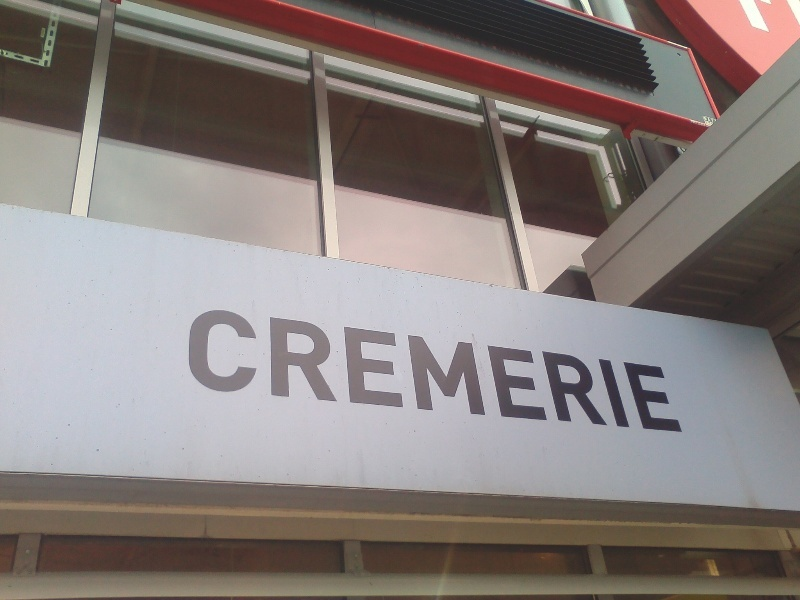text: (193, 307, 208, 434), (209, 307, 224, 434), (225, 307, 240, 434), (241, 307, 256, 434), (257, 307, 272, 434), (273, 307, 288, 434), (289, 307, 304, 434), (305, 307, 320, 434), (321, 307, 336, 434), (337, 307, 352, 434), (353, 307, 368, 434), (369, 307, 384, 434), (385, 307, 400, 434), (401, 307, 416, 434), (417, 307, 432, 434), (433, 307, 448, 434), (449, 307, 464, 434), (465, 307, 480, 434), (481, 307, 496, 434), (497, 307, 512, 434), (513, 307, 528, 434), (529, 307, 544, 434), (545, 307, 560, 434), (561, 307, 576, 434), (577, 307, 592, 434), (593, 307, 608, 434), (609, 307, 624, 434), (625, 307, 640, 434), (641, 307, 656, 434), (657, 307, 672, 434), (673, 307, 684, 434), (190, 307, 192, 434)
